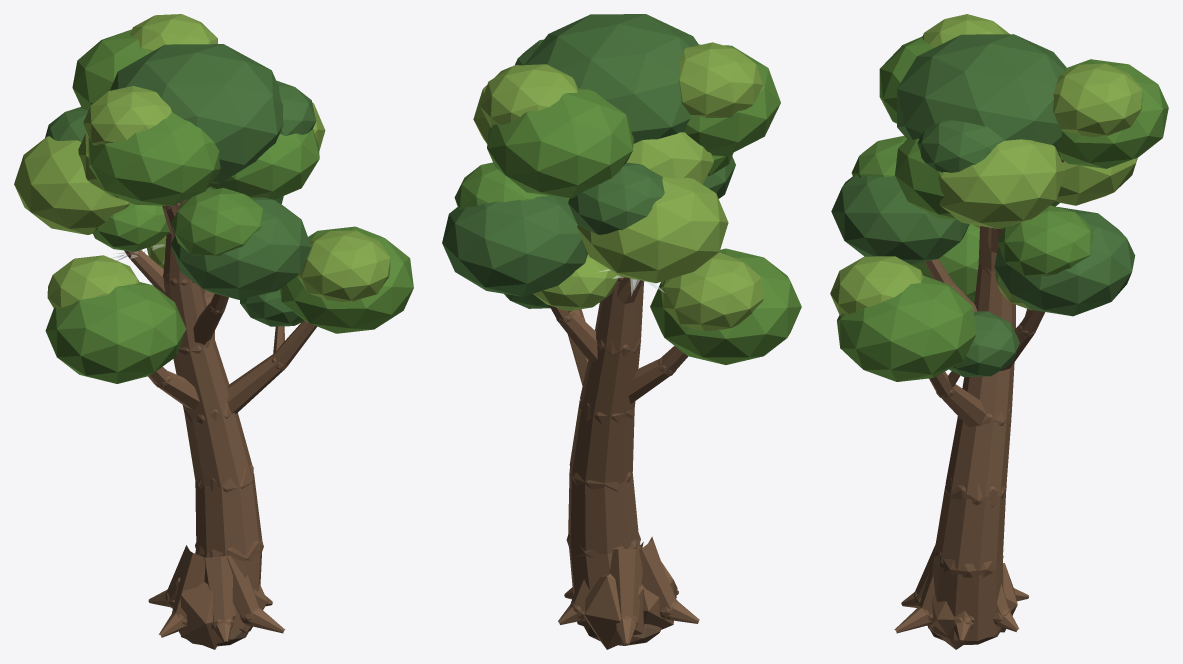
Rendered from tree_06_gennem_lanternen.glb.
3 renders of one model, left to right at view 1: azimuth 30°, elevation 25°; view 2: azimuth 150°, elevation 25°; view 3: azimuth 270°, elevation 25°, orthographic. The views are drawn at different scales.
Visible parts, largest first — view 1: OR_Tree_leafA, OR_Tree_bark, OR_Tree_leafC, OR_Tree_leafB; view 2: OR_Tree_leafB, OR_Tree_leafC, OR_Tree_bark, OR_Tree_leafA; view 3: OR_Tree_leafC, OR_Tree_leafA, OR_Tree_bark, OR_Tree_leafB.
Part boxes in pixels (x1=…): OR_Tree_leafA: x1=45, y1=29, x2=413, y2=383; OR_Tree_bark: x1=124, y1=199, x2=317, y2=649; OR_Tree_leafC: x1=45, y1=44, x2=316, y2=326; OR_Tree_leafB: x1=14, y1=14, x2=390, y2=309; OR_Tree_leafB: x1=473, y1=42, x2=763, y2=331; OR_Tree_leafC: x1=442, y1=14, x2=735, y2=308; OR_Tree_bark: x1=549, y1=274, x2=699, y2=649; OR_Tree_leafA: x1=454, y1=44, x2=801, y2=364; OR_Tree_leafC: x1=831, y1=34, x2=1135, y2=376; OR_Tree_leafA: x1=837, y1=36, x2=1168, y2=381; OR_Tree_bark: x1=894, y1=158, x2=1063, y2=649; OR_Tree_leafB: x1=830, y1=14, x2=1142, y2=316.
Bounding box in the file's own units: 10.23 × 17.89 × 9.29.
